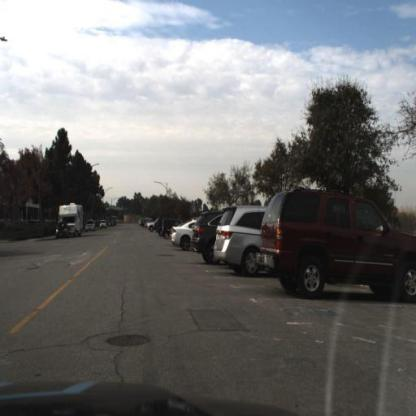car: (259, 181, 416, 314), (213, 204, 263, 281), (192, 205, 219, 265), (172, 217, 196, 252), (54, 219, 72, 242), (160, 216, 173, 243), (84, 218, 98, 234)
truck: (61, 203, 87, 238)
